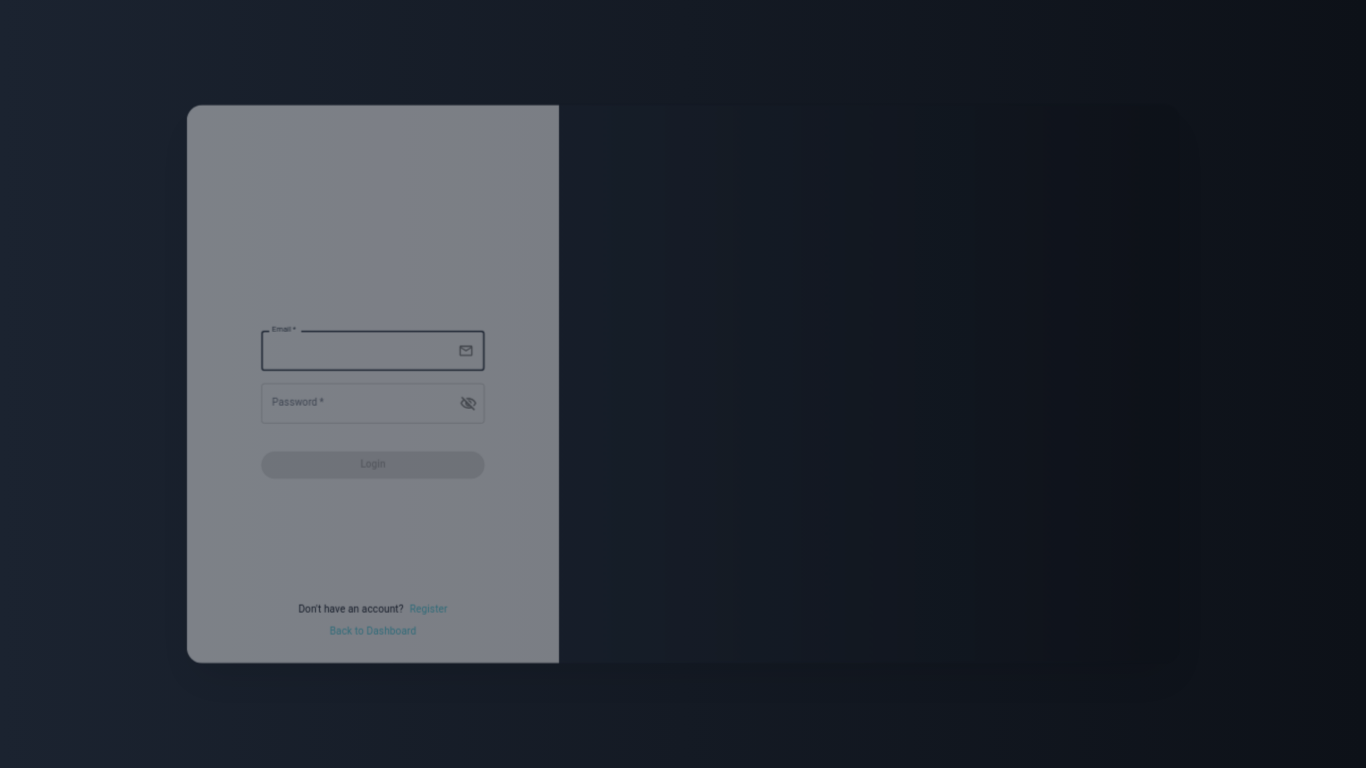
Test: <LoginPage /> › displays password validation errors
Type "Prueba" into the password field labelled "Password *". click: [354, 403]
box: [261,383,447,423]
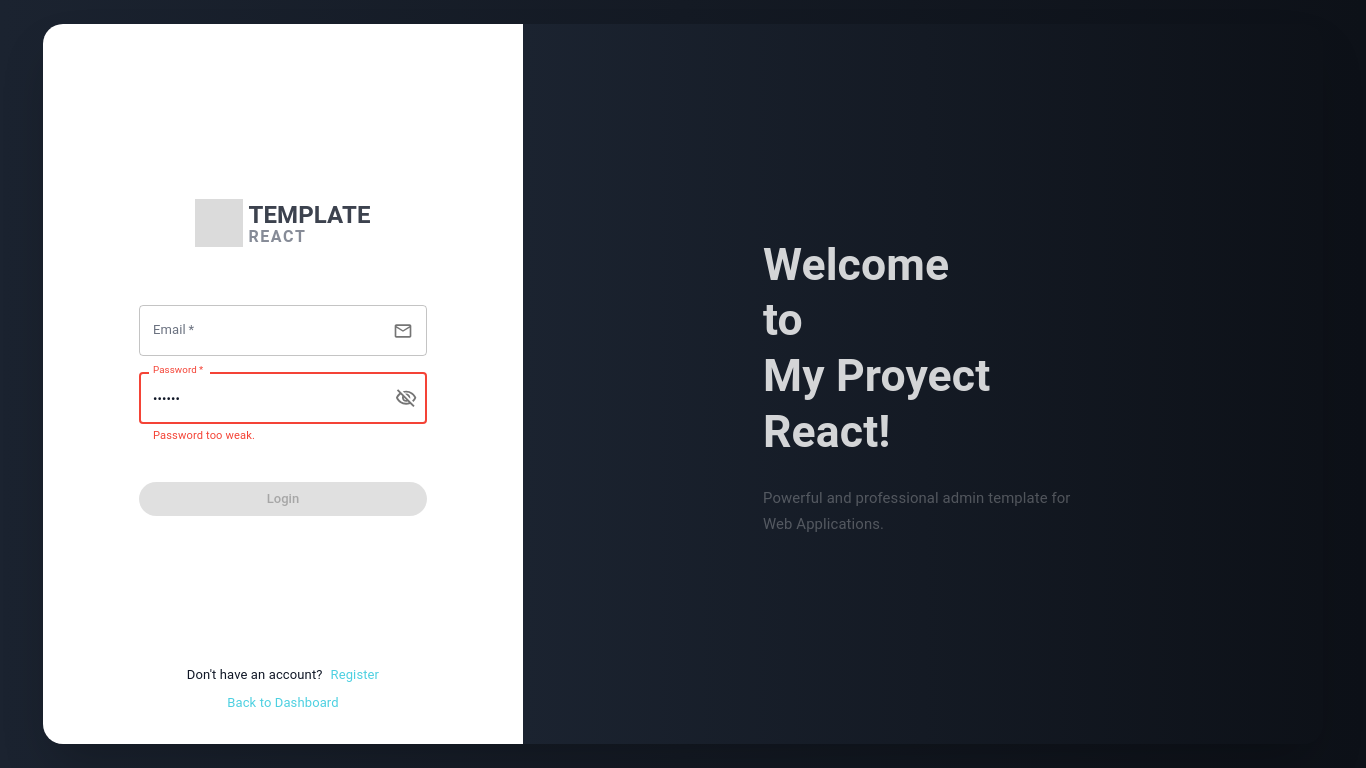
Check: the text "Password too weak." is shown, box [153,429,255,442]
Clear the password field labelled "Password *". click: [259, 398]
box: [139,372,379,424]
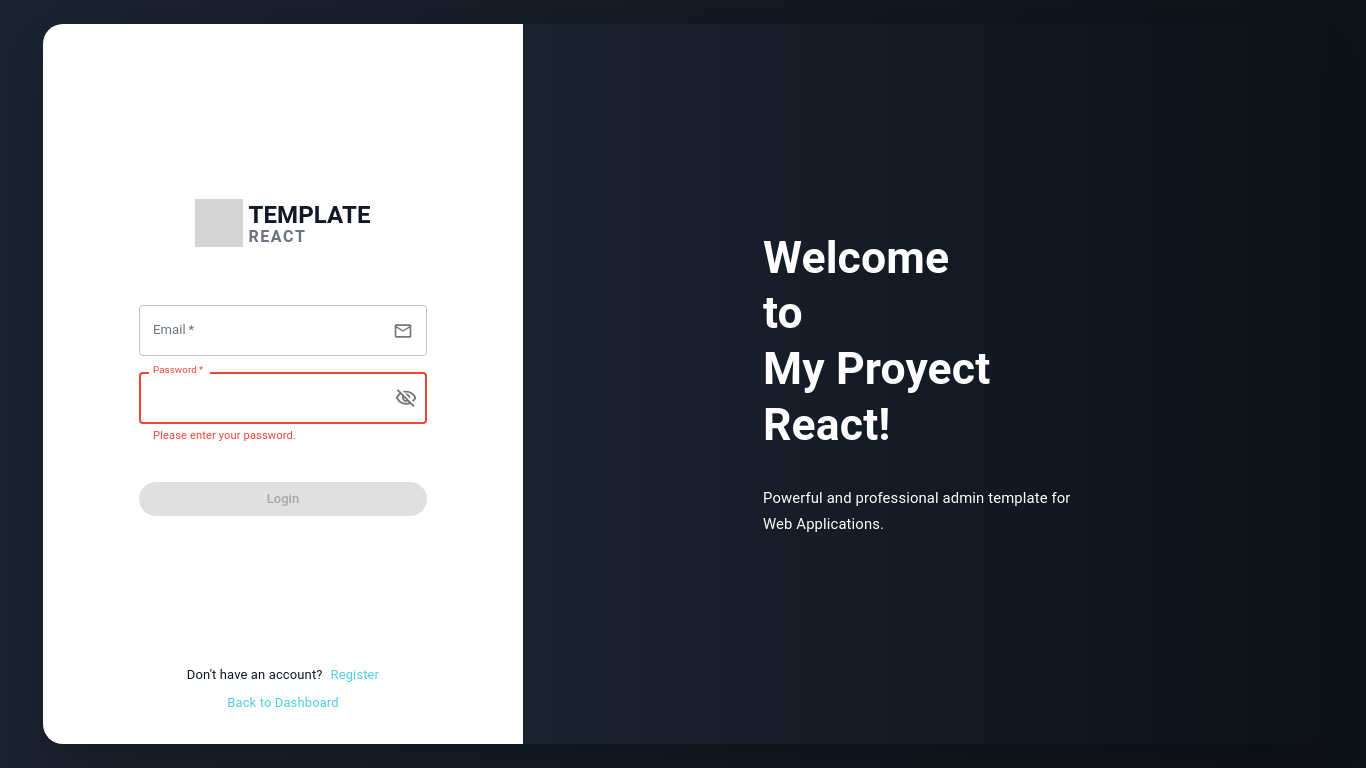
Check: the text "Please enter your password." is shown, box [153,429,296,442]
